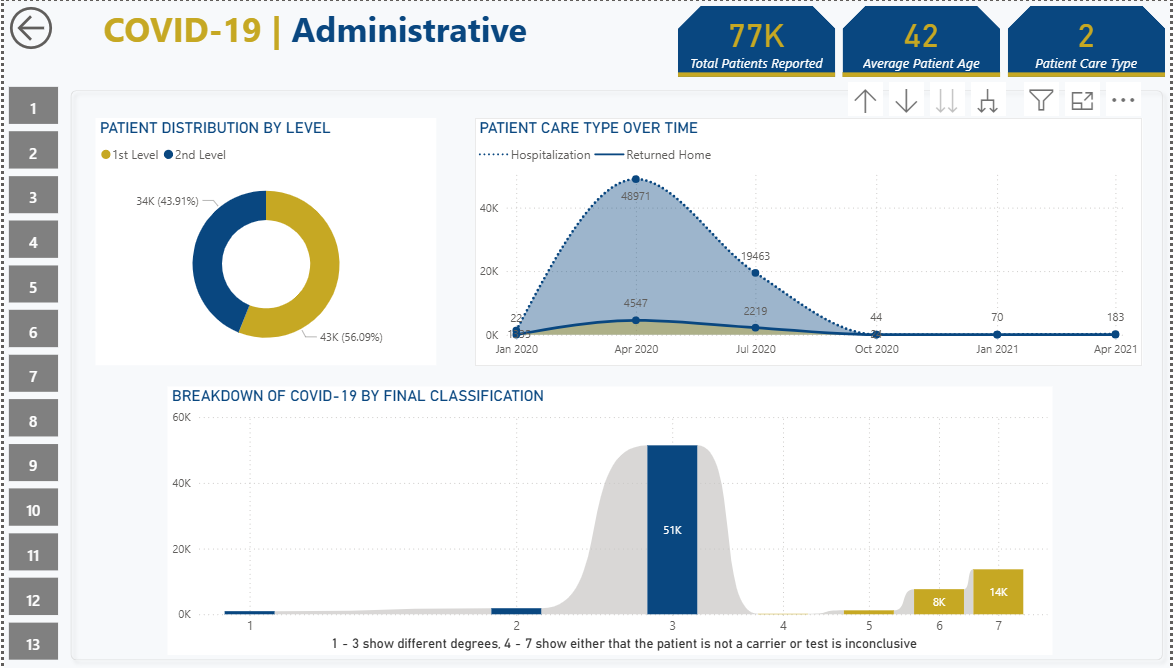

What the dashboard file says about the page in this screenshot:
{"tool":"powerbi","page":{"name":"Administrative","canvas":[1280,732],"ordinal":1},"visuals":[{"type":"shape","box":[64.2,88.9,1216.6,643.7],"z":0},{"type":"textbox","box":[64.2,0,670,88.9],"z":1000},{"type":"advancedSlicerVisual","title":"MEDICAL UNIT","fields":{"Values":["Covid Data.MEDICAL_UNIT"]},"box":[0,88.9,64.2,643.7],"z":2000},{"type":"areaChart","title":"PATIENT CARE TYPE OVER TIME","fields":{"Category":["Covid Data.DATE_DIED.Variation.Date Hierarchy.Year","Covid Data.DATE_DIED.Variation.Date Hierarchy.Quarter","Covid Data.DATE_DIED.Variation.Date Hierarchy.Month","Covid Data.DATE_DIED.Variation.Date Hierarchy.Day"],"Series":["Covid Data.PATIENT_TYPE"],"Y":["Covid Data.NO. OF PATIENTS"]},"box":[516.9,128.4,732.6,271.6],"z":3000},{"type":"ribbonChart","title":"BREAKDOWN OF COVID-19 BY FINAL CLASSIFICATION","fields":{"Category":["Covid Data.CLASIFFICATION_FINAL"],"Y":["Covid Data.NO. OF PATIENTS"]},"box":[179.4,423.1,971.3,294.7],"z":4000},{"type":"donutChart","title":"PATIENT DISTRIBUTION BY LEVEL","fields":{"Category":["Covid Data.Value"],"Y":["Covid Data.NO. OF PATIENTS"]},"box":[100.4,128.4,373.7,271.6],"z":5000},{"type":"actionButton","box":[0,0,72.4,59.3],"z":6000},{"type":"cardVisual","fields":{"Data":["Covid Data.NO. OF PATIENTS","Avg(Covid Data.AGE)","Count(Covid Data.PATIENT_TYPE)"]},"box":[734.2,0,546.5,88.9],"z":7000}]}

Visuals, with their boxes on the page's 1280x732 design canvas (x1, y1, x2, y2). These are canvas units, not pixel positions in the 1174x668 screenshot, which may show the page scaled, cropped or inside an application window:
shape: 64:89:1281:733
textbox: 64:0:734:89
"MEDICAL UNIT" advancedSlicerVisual: 0:89:64:733
"PATIENT CARE TYPE OVER TIME" areaChart: 517:128:1250:400
"BREAKDOWN OF COVID-19 BY FINAL CLASSIFICATION" ribbonChart: 179:423:1151:718
"PATIENT DISTRIBUTION BY LEVEL" donutChart: 100:128:474:400
actionButton: 0:0:72:59
cardVisual - Covid Data.NO. OF PATIENTS x Avg(Covid Data.AGE): 734:0:1281:89
